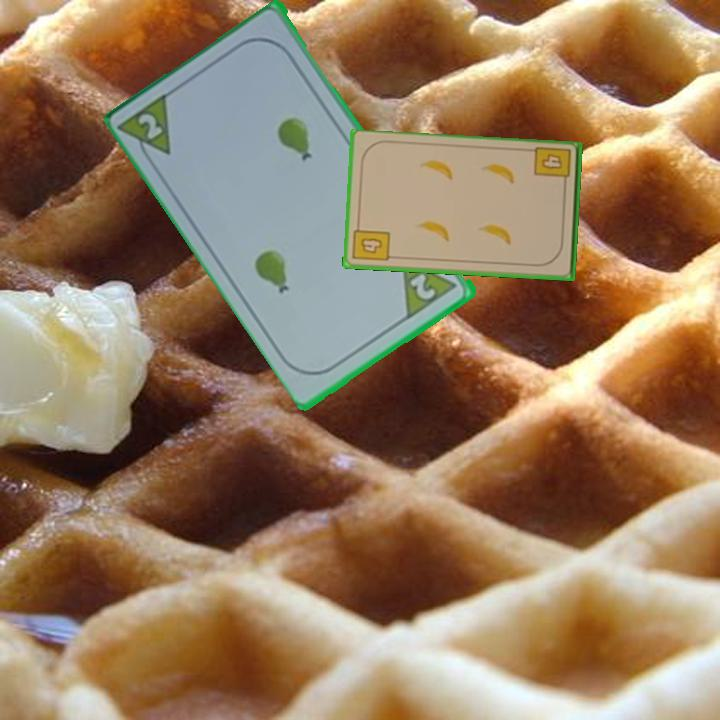2p: (407, 269, 440, 304), (134, 109, 167, 143)
4b: (531, 144, 574, 190), (349, 220, 393, 264)
